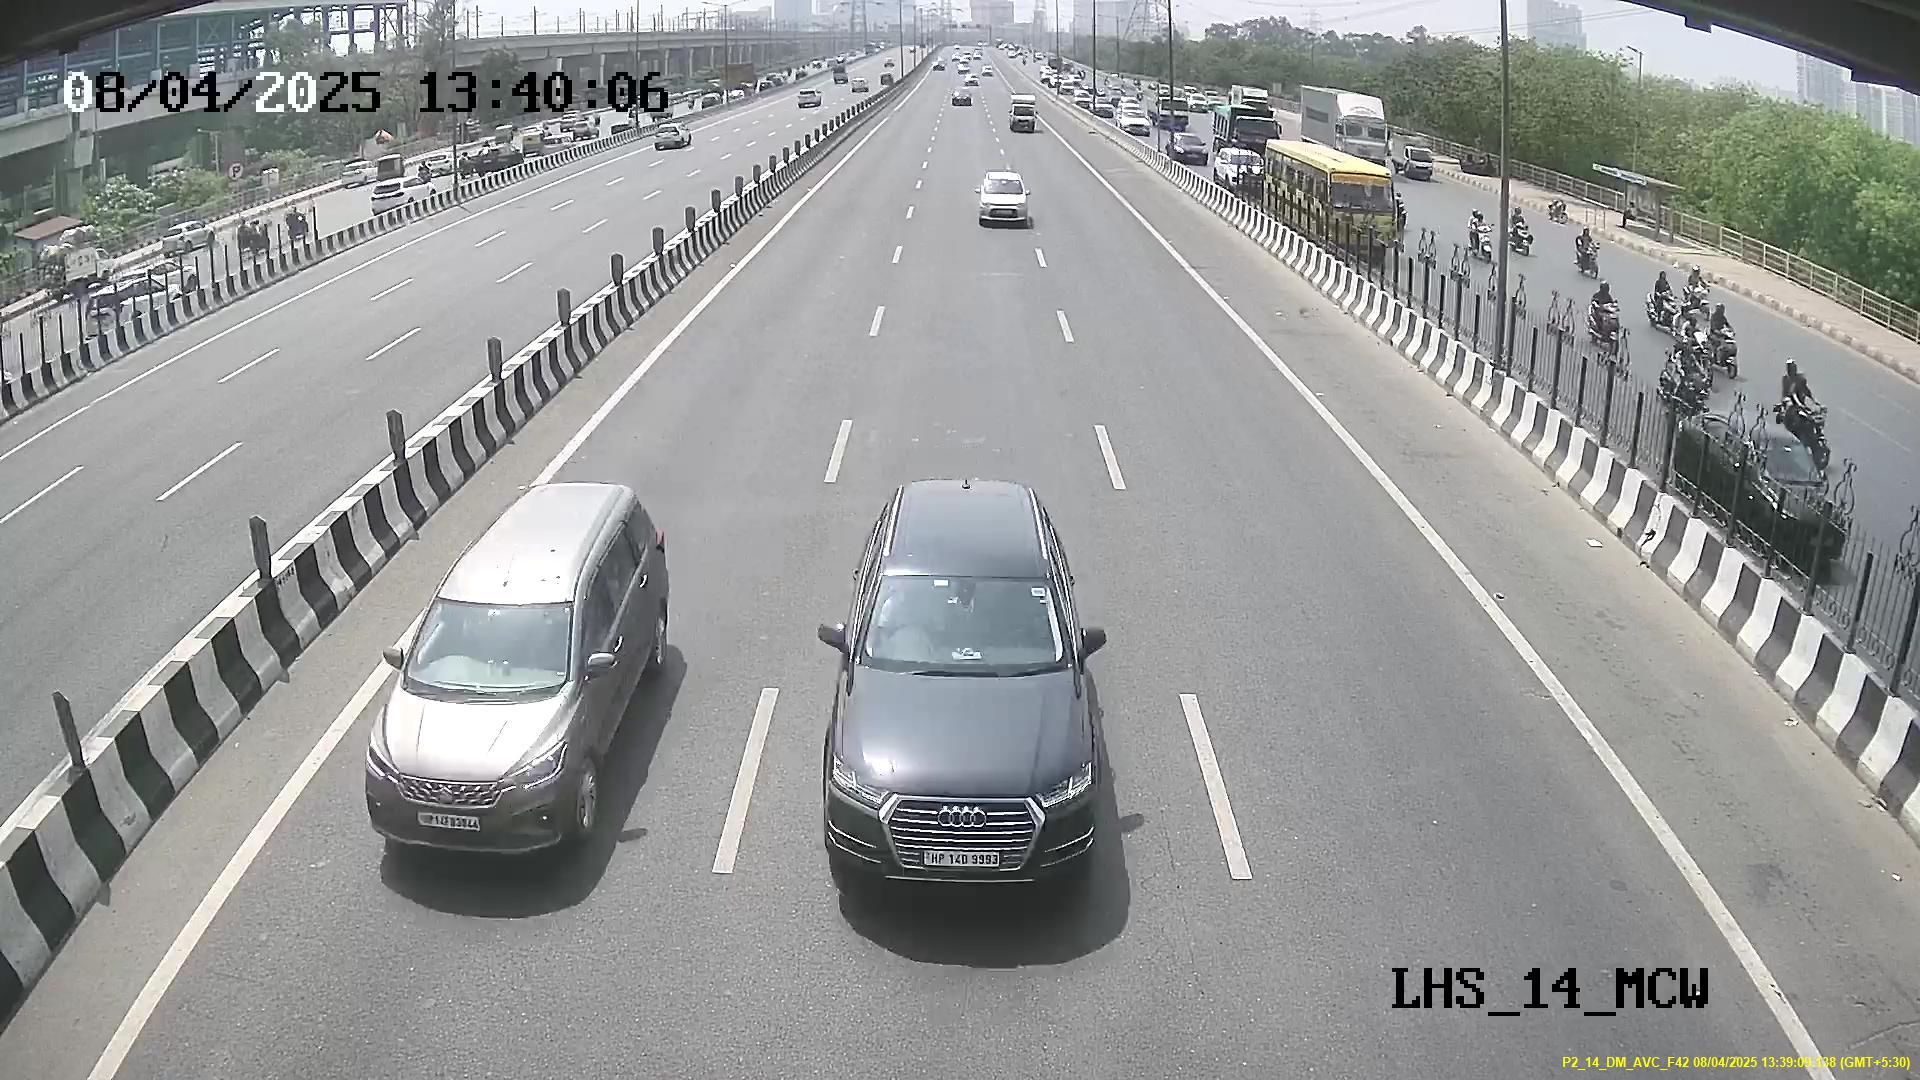car: (812, 541, 1102, 909), (360, 553, 650, 862)
